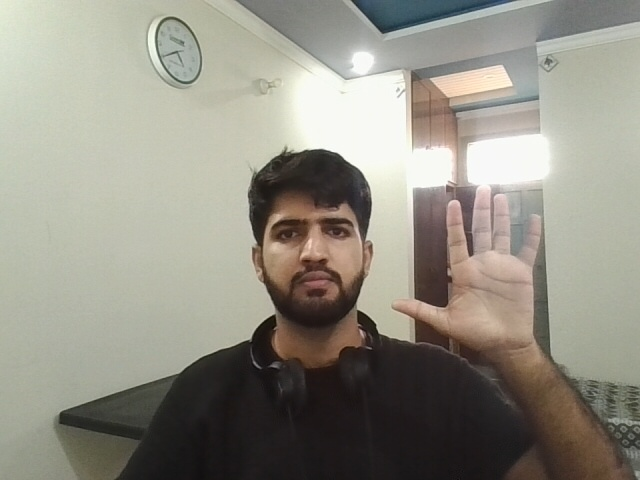Hello: (394, 170, 561, 372)
